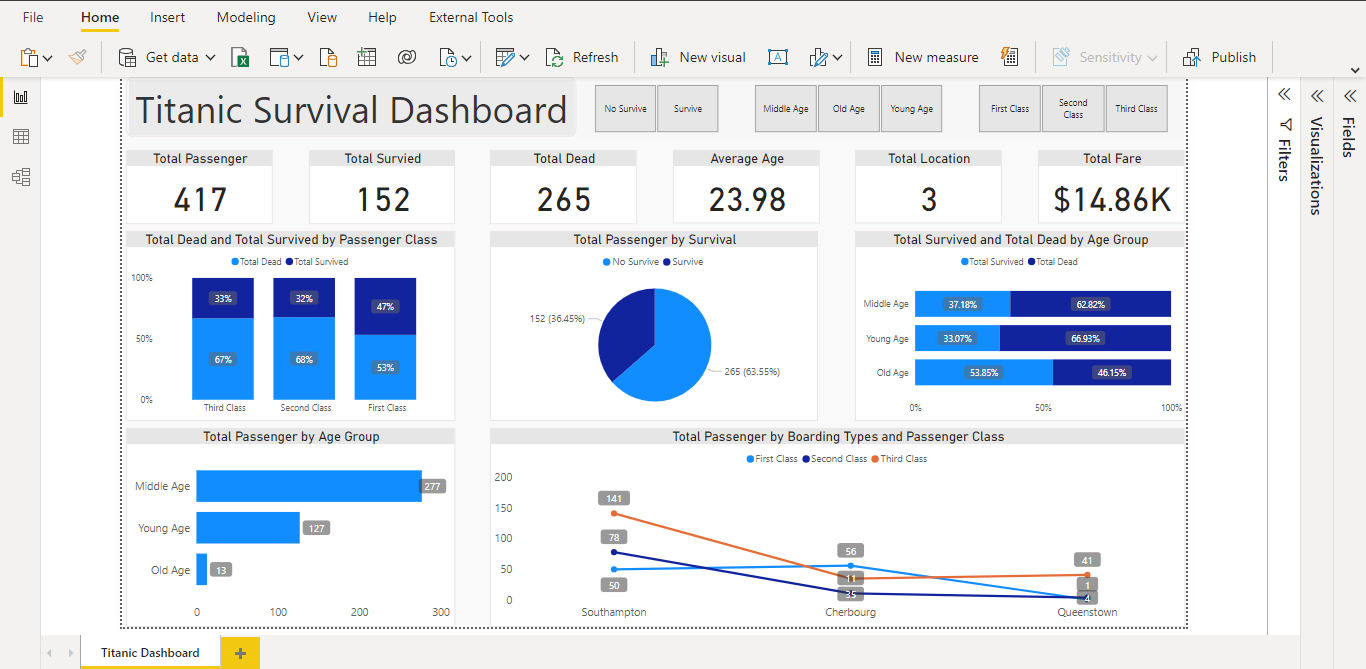

What the dashboard file says about the page in this screenshot:
{"tool":"powerbi","page":{"name":"Titanic Dashboard","canvas":[1450,750],"ordinal":1},"visuals":[{"type":"card","title":"Total Passenger","fields":{"Values":["# Measure.Total Passenger"]},"box":[5.5,99.5,200.5,100.9],"z":0},{"type":"card","title":"Total Survied","fields":{"Values":["# Measure.Total Survive"]},"box":[254.5,99.5,199.1,100.9],"z":1000},{"type":"card","title":"Total Dead","fields":{"Values":["# Measure.Total Dead"]},"box":[502.1,99.5,200.5,100.9],"z":2000},{"type":"card","title":"Average Age","fields":{"Values":["# Measure.Avg Age"]},"box":[751.1,99.5,200.5,99.5],"z":3000},{"type":"slicer","fields":{"Values":["Data.Age Group"]},"box":[837.3,4.1,305.5,77.7],"z":4000},{"type":"slicer","fields":{"Values":["Data.Passenger Class"]},"box":[1142.7,4.1,306.8,77.7],"z":5000},{"type":"card","title":"Total Location","fields":{"Values":["# Measure.Location"]},"box":[1000.1,99.5,200.5,99.5],"z":6000},{"type":"hundredPercentStackedColumnChart","title":"Total Dead and Total Survived by Passenger Class","fields":{"Y":["# Measure.Total Dead","# Measure.Total Survived"],"Category":["Data.Passenger Class"]},"box":[5.5,210,448.6,259.1],"z":7000},{"type":"pieChart","fields":{"Category":["Data.Survival"],"Y":["# Measure.Total Passenger"]},"box":[501.8,210,447.3,259.1],"z":8000},{"type":"clusteredBarChart","fields":{"Y":["# Measure.Total Passenger"],"Category":["Data.Age Group"]},"box":[5.5,478.6,448.6,271.4],"z":9000},{"type":"hundredPercentStackedBarChart","fields":{"Category":["Data.Age Group"],"Y":["# Measure.Total Survived","# Measure.Total Dead"]},"box":[999.5,210,450,259.1],"z":10000},{"type":"lineChart","title":"Total Passenger by Boarding Types and Passenger Class","fields":{"Category":["Data.Boarding Types"],"Y":["# Measure.Total Passenger"],"Series":["Data.Passenger Class"]},"box":[501.8,478.6,947.7,271.4],"z":11000},{"type":"shape","box":[5.5,0,613.6,81.8],"z":12000},{"type":"card","title":"Total Fare","fields":{"Values":["# Measure.Total Fare"]},"box":[1249.1,99.5,200.5,99.5],"z":13000},{"type":"slicer","fields":{"Values":["Data.Survival"]},"box":[619.1,4.1,218.2,77.7],"z":14000}]}

Visuals, with their boxes on the page's 1450x750 design canvas (x1, y1, x2, y2). These are canvas units, not pixel positions in the 1366x669 screenshot, which may show the page scaled, cropped or inside an application window:
"Total Passenger" card: 6:100:206:200
"Total Survied" card: 254:100:454:200
"Total Dead" card: 502:100:703:200
"Average Age" card: 751:100:952:199
slicer - Data.Age Group: 837:4:1143:82
slicer - Data.Passenger Class: 1143:4:1450:82
"Total Location" card: 1000:100:1201:199
"Total Dead and Total Survived by Passenger Class" hundredPercentStackedColumnChart: 6:210:454:469
pieChart - Data.Survival x # Measure.Total Passenger: 502:210:949:469
clusteredBarChart - # Measure.Total Passenger x Data.Age Group: 6:479:454:750
hundredPercentStackedBarChart - Data.Age Group x # Measure.Total Survived: 1000:210:1450:469
"Total Passenger by Boarding Types and Passenger Class" lineChart: 502:479:1450:750
shape: 6:0:619:82
"Total Fare" card: 1249:100:1450:199
slicer - Data.Survival: 619:4:837:82
